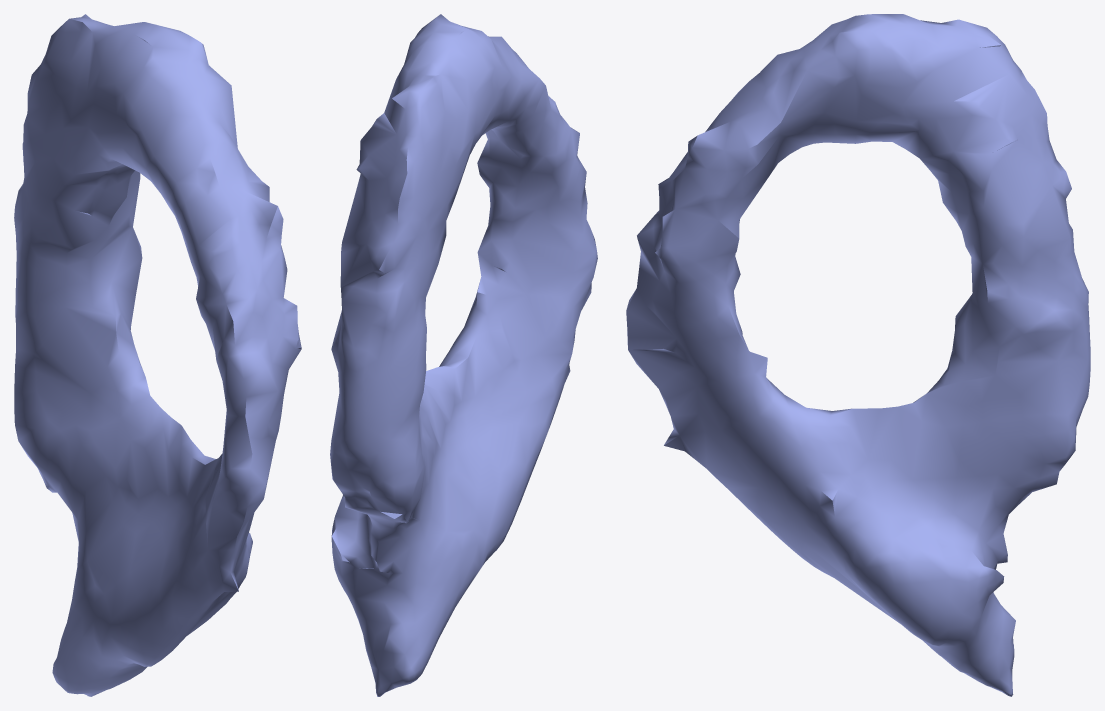
The model's file is spl-24.glb.
The picture shows the model from 3 angles, left to right: view 1: azimuth 30°, elevation 25°; view 2: azimuth 150°, elevation 25°; view 3: azimuth 270°, elevation 25°; orthographic projection. The views are drawn at different scales.
Visible parts, largest first — view 1: spl-24; view 2: spl-24; view 3: spl-24.
Part boxes in pixels (x1=…): spl-24: x1=14, y1=14, x2=301, y2=696; spl-24: x1=330, y1=14, x2=597, y2=696; spl-24: x1=626, y1=14, x2=1090, y2=696.
Bounding box in the file's own units: 7.56 × 34.22 × 21.29.
